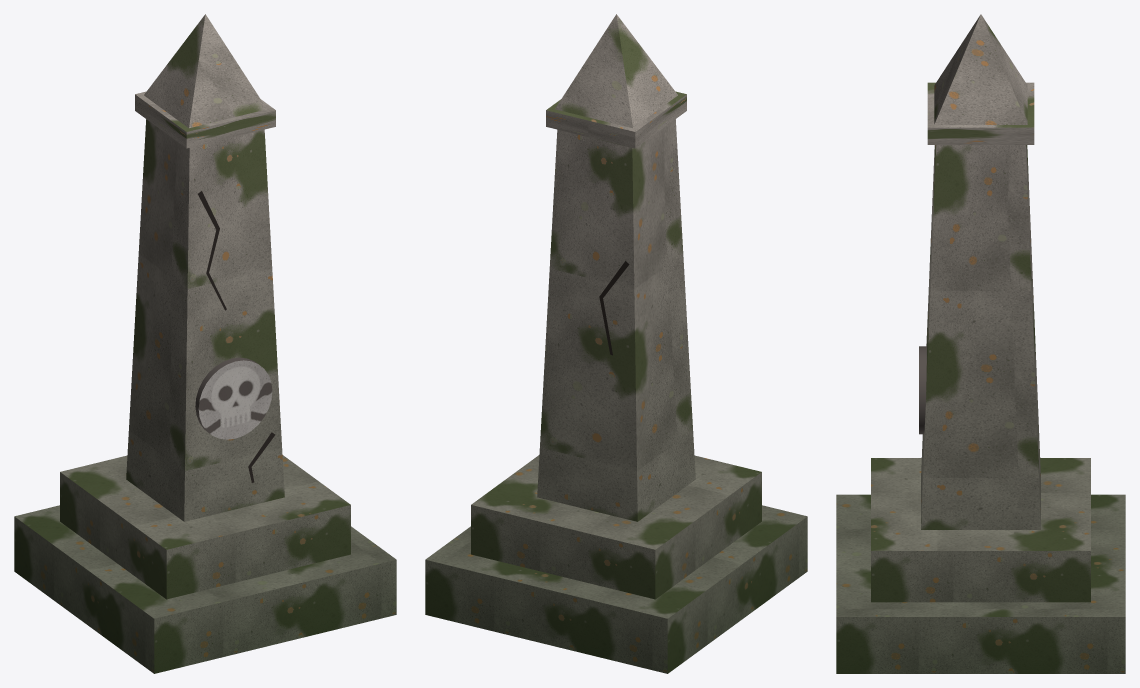
3 views of the same model, side by side, from view 1: azimuth 30°, elevation 25°; view 2: azimuth 150°, elevation 25°; view 3: azimuth 270°, elevation 25° (orthographic). The views are drawn at different scales.
Parts seen in each view (by area): view 1: Stone; view 2: Stone; view 3: Stone.
Boxes of the visible parts, left/top/right/bottom form: Stone: left=14, top=14, right=396, bottom=673; Stone: left=425, top=14, right=807, bottom=673; Stone: left=836, top=14, right=1125, bottom=673.
Bounding box in the file's own units: 0.92 × 2.1 × 0.92.
3 materials, 2 textured.
